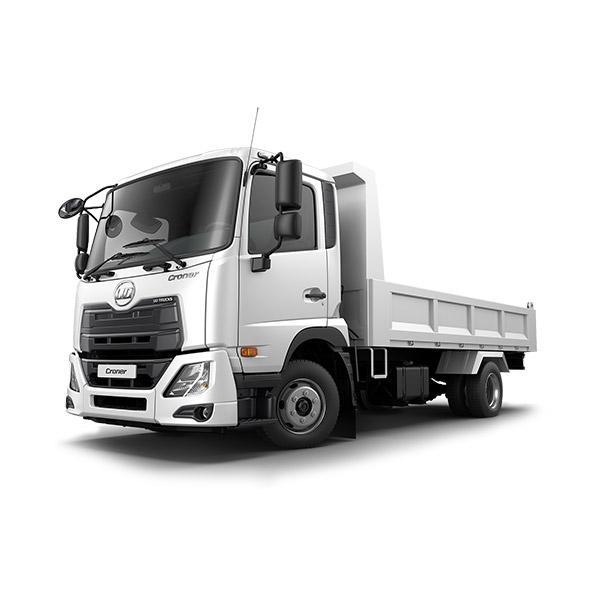truck: (58, 146, 536, 451)
